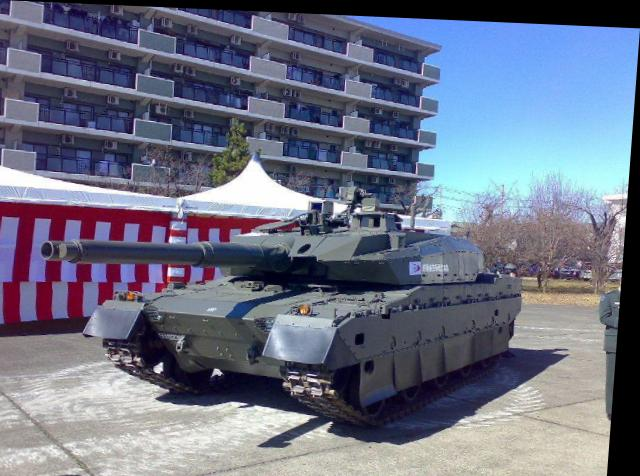tank: (117, 198, 530, 394)
